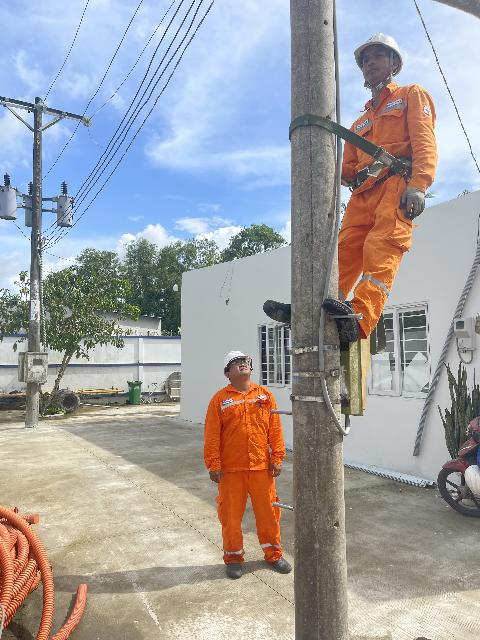gloves: (393, 183, 438, 233)
harness: (320, 140, 420, 186)
helmet: (351, 31, 408, 71), (202, 340, 258, 380)
shoes: (321, 294, 370, 348), (253, 284, 297, 338), (260, 549, 299, 578), (222, 553, 247, 583)
